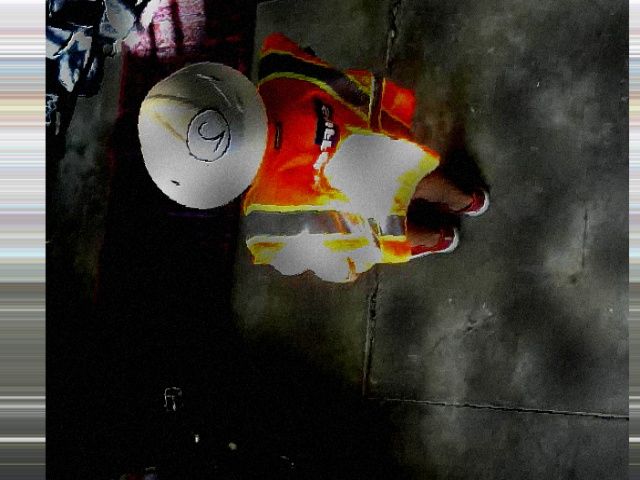two: (183, 106, 231, 162)
